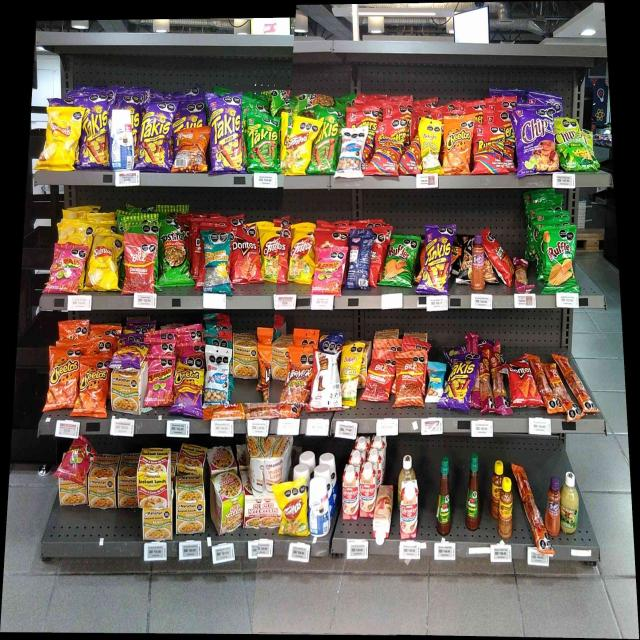bitzAlmendras: (428, 364, 443, 398)
bitzEnchilado90: (125, 239, 153, 292), (397, 356, 422, 406), (369, 357, 391, 402)
bitzEnchilado95: (538, 357, 582, 417), (520, 463, 536, 550), (203, 406, 299, 418)
bitzHabanero: (477, 341, 507, 416), (513, 255, 528, 292)
botaneraChilito: (499, 475, 514, 540)
cheetosFlaminHot: (175, 359, 202, 419)
cheetosOriginal: (49, 349, 77, 406), (79, 360, 107, 412), (446, 121, 470, 172)
chipsFuego: (517, 110, 553, 170)
chipsPapatinas: (556, 121, 585, 172)
churrumais: (316, 250, 342, 295), (148, 357, 172, 403), (54, 249, 79, 292), (65, 442, 89, 474)
delPrimoSalsa: (562, 472, 579, 536)
doritosNacho: (232, 232, 260, 280), (508, 364, 536, 406)
fritosLimon: (281, 484, 306, 536), (284, 130, 310, 174), (291, 230, 311, 283), (262, 231, 279, 280)
leoCacahuates: (206, 346, 227, 405), (342, 133, 363, 175)
leoMix: (286, 357, 311, 404)
maruchanPollo: (176, 475, 205, 534), (110, 370, 142, 415), (232, 333, 258, 379), (142, 509, 172, 541), (88, 475, 114, 510), (60, 476, 88, 507), (264, 436, 294, 459), (118, 474, 138, 508), (272, 342, 285, 379)
maruchanRes: (139, 448, 170, 506)
nestleCarnation: (400, 480, 420, 540), (375, 483, 395, 540), (342, 463, 361, 520), (362, 462, 374, 521)
nestleLechera: (110, 107, 134, 170), (309, 476, 331, 536)
nissinCamaron: (210, 476, 244, 532)
nissinRes: (264, 494, 280, 531), (246, 495, 261, 530)
productoAtras: (313, 352, 340, 408), (178, 128, 206, 172), (349, 234, 370, 287)
rufflesQueso: (543, 230, 575, 290), (385, 241, 413, 286)
runners: (378, 124, 404, 174), (476, 128, 503, 172), (348, 112, 377, 126), (408, 143, 420, 172), (505, 124, 513, 166)
sabritasOriginal: (45, 116, 73, 170), (88, 240, 116, 290)
salsaBufalo: (466, 451, 482, 532), (437, 452, 452, 538)
semillasCalabaza: (340, 350, 358, 404), (422, 122, 440, 174)
semillasGirasol: (204, 236, 230, 292)
tajinDulce: (546, 474, 562, 536), (471, 236, 485, 290)
takisFuego: (210, 100, 244, 170), (424, 229, 450, 295), (448, 354, 475, 412), (141, 116, 170, 168), (83, 107, 107, 165)
takisOriginal: (249, 116, 278, 170), (314, 123, 337, 170)
tostitos: (159, 225, 184, 285)
